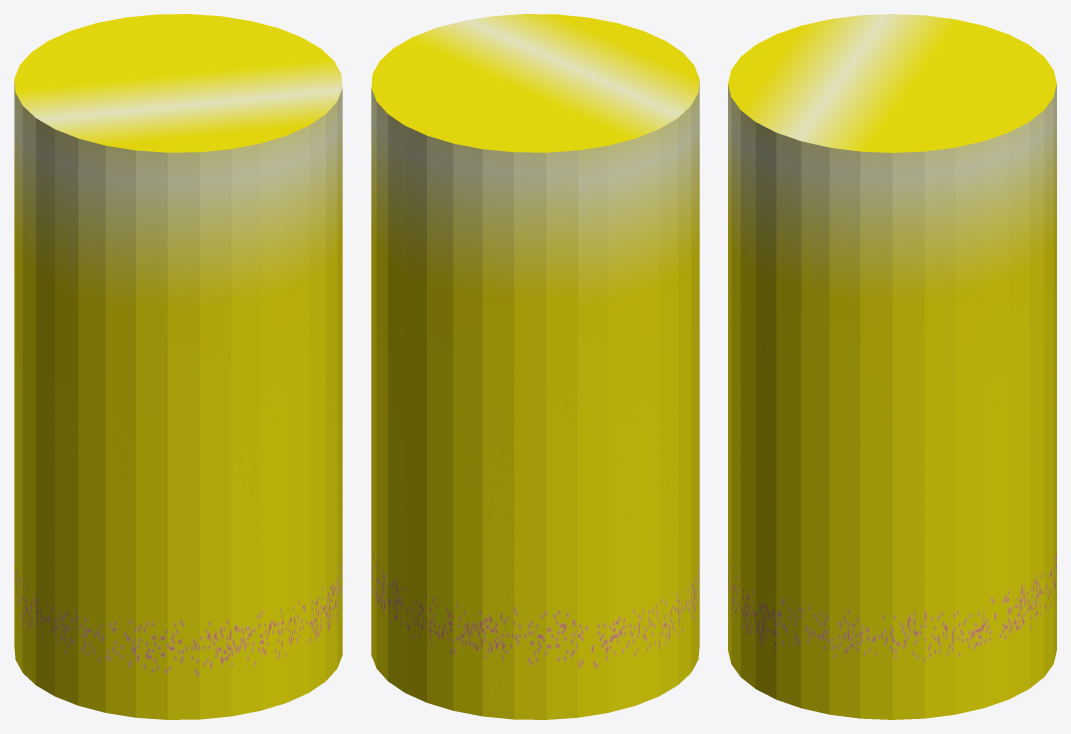
The model's file is balltest1.obj.
The picture shows the model from 3 angles, left to right: view 1: azimuth 30°, elevation 25°; view 2: azimuth 150°, elevation 25°; view 3: azimuth 270°, elevation 25°; orthographic projection.
Visible parts, largest first — view 1: Cylinder; view 2: Cylinder; view 3: Cylinder.
Boxes of the visible parts, x1=… form: Cylinder: x1=14, y1=14, x2=342, y2=719; Cylinder: x1=371, y1=14, x2=699, y2=719; Cylinder: x1=728, y1=14, x2=1056, y2=719.
Size of the model in its own units: 5.31 by 10.11 by 5.31.
